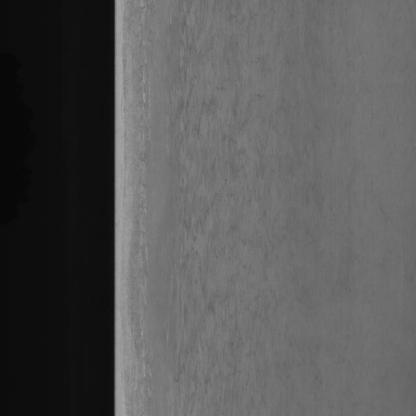silk_spot: (160, 5, 277, 409)
